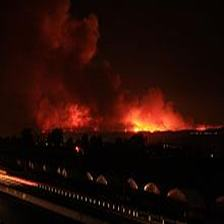fire: (37, 62, 210, 148)
